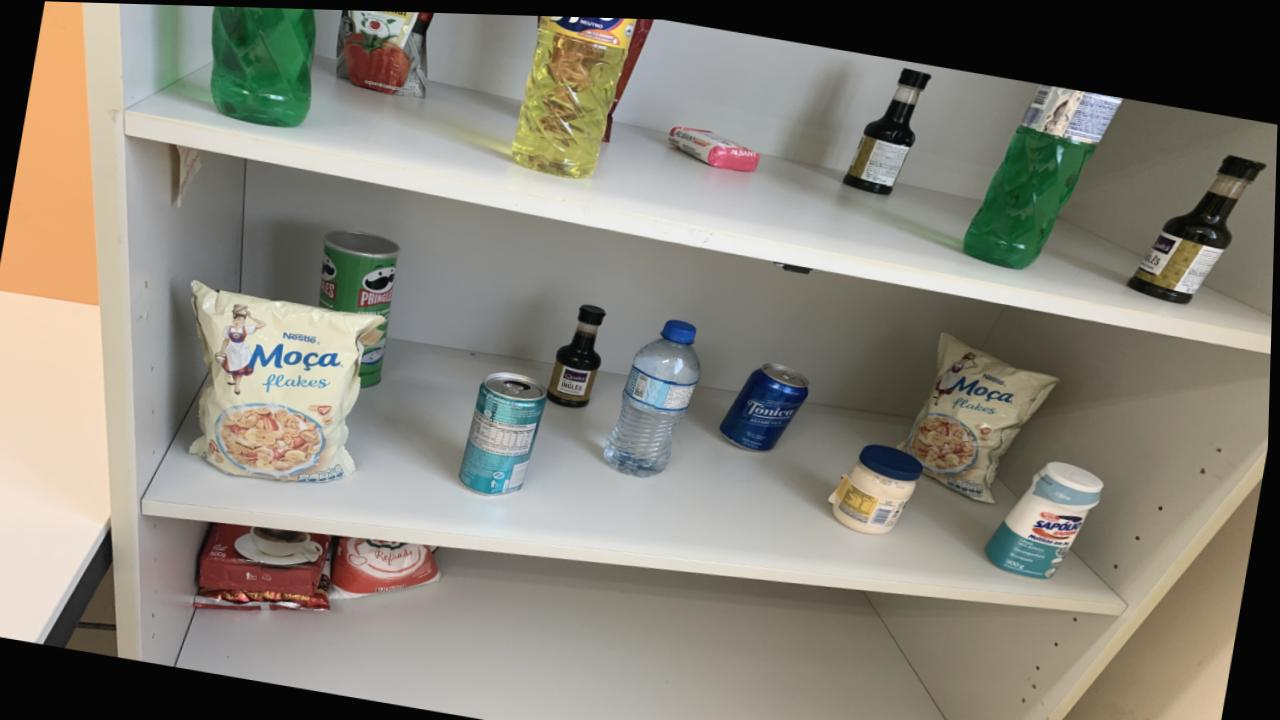Cleaner-Cleanup_Items: (989, 454, 1107, 572)
Detergent-Cleanup_Items: (964, 77, 1122, 262), (512, 13, 638, 174), (210, 5, 316, 125)
English_Sauce-Pantry_Items: (1129, 146, 1266, 296), (844, 64, 930, 189), (549, 301, 607, 404)
Flakes-Snacks: (191, 279, 385, 480), (902, 328, 1060, 497)
Mayonnaise-Pantry_Items: (832, 438, 924, 529)
Pringles-Snacks: (320, 228, 401, 318), (361, 321, 389, 384)
Soap-Cleanup_Items: (668, 122, 760, 166)
Tea-Drinks: (461, 369, 549, 492)
Tomato_Sauce-Pantry_Items: (336, 8, 433, 94)
Tonic-Drinks: (722, 358, 811, 446)
Water_Bottle-Drinks: (606, 315, 702, 472)
